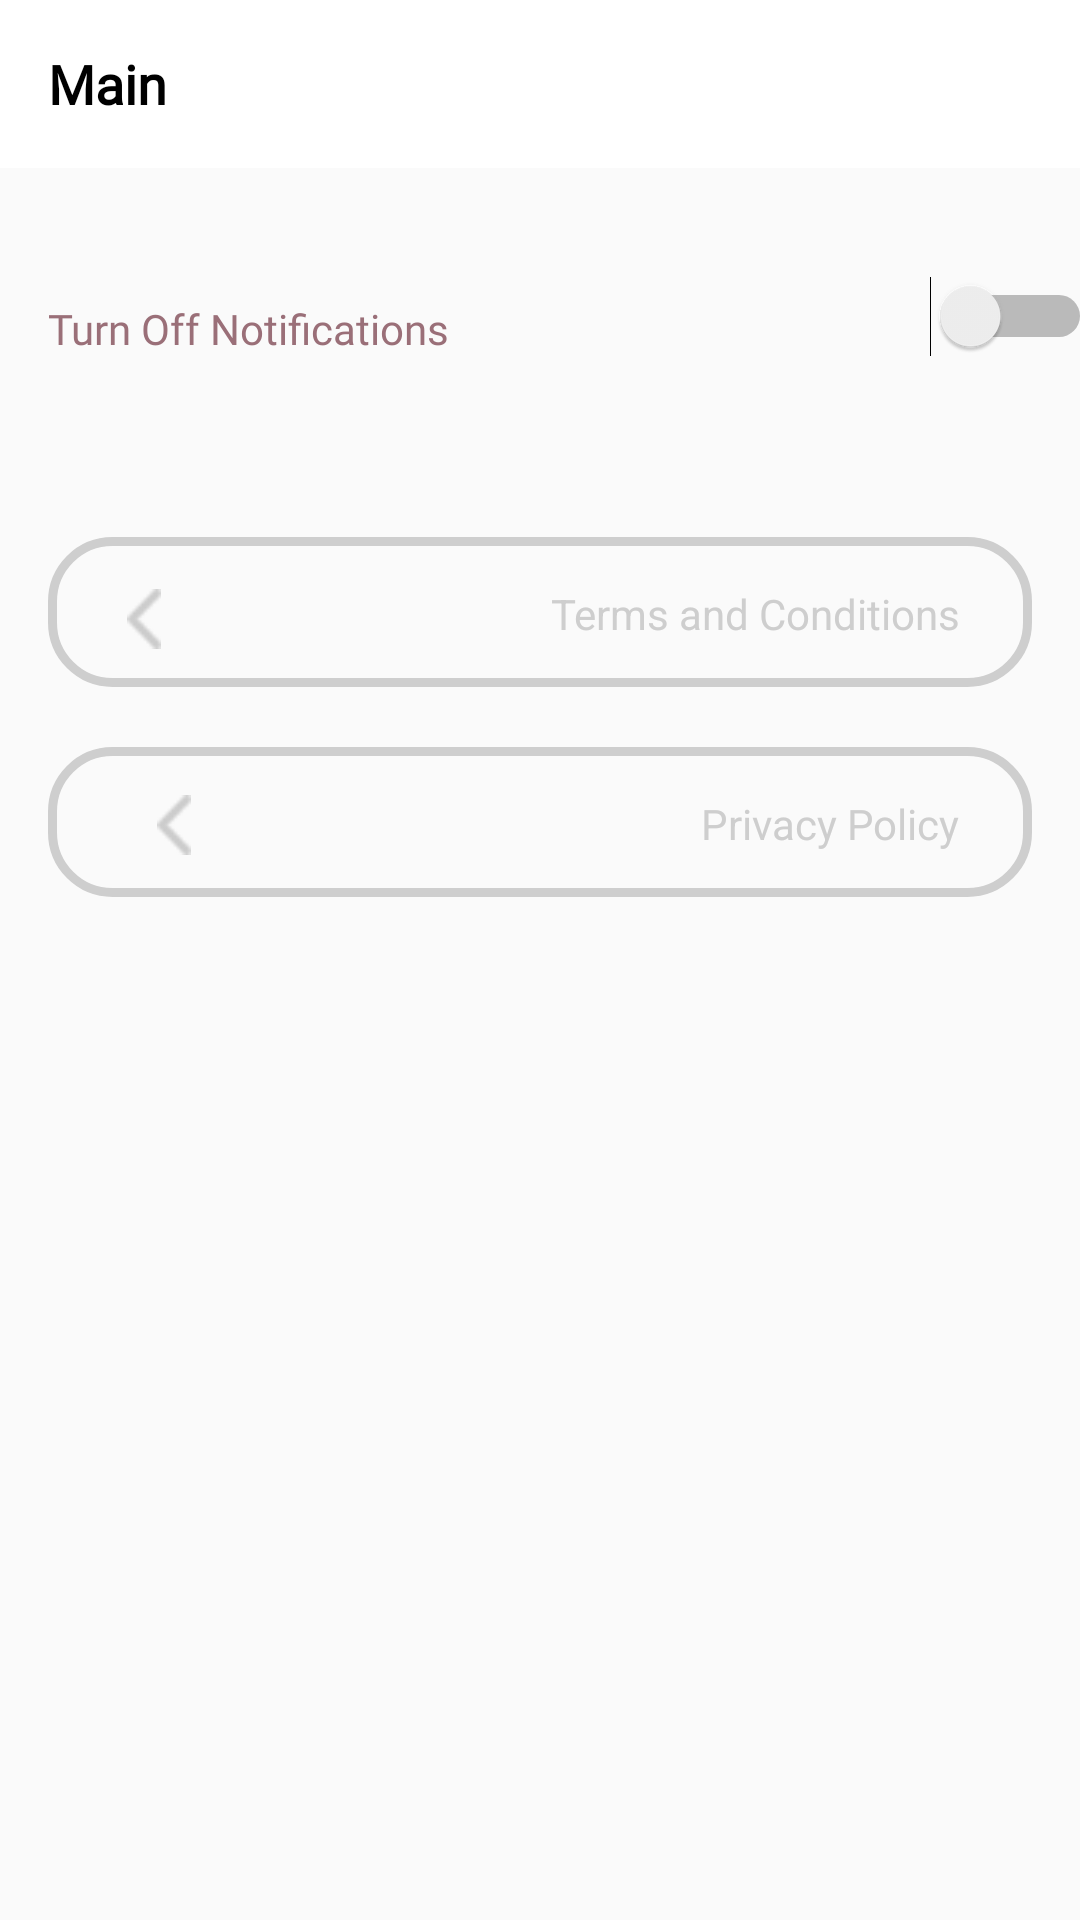

Named icons in this screenshot (1080*1920) and their centers, [x,y]:
arrow leftcopy: [144,619], [174,825]
